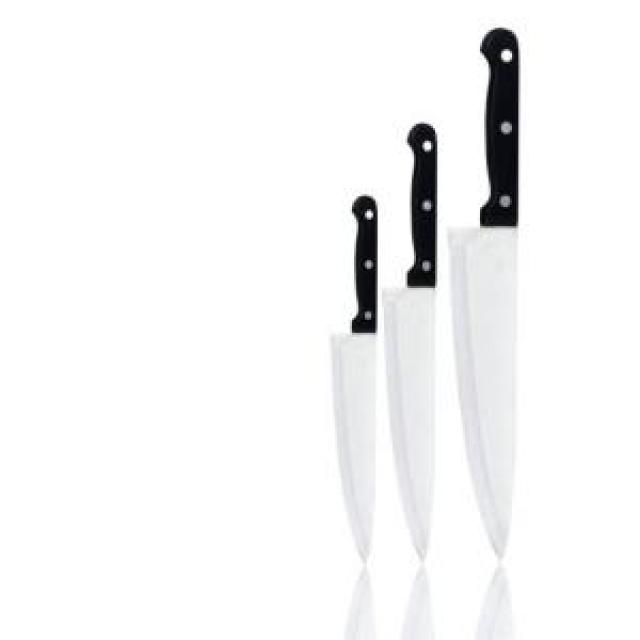knife: (448, 26, 522, 566), (382, 122, 437, 577), (331, 192, 376, 572)
